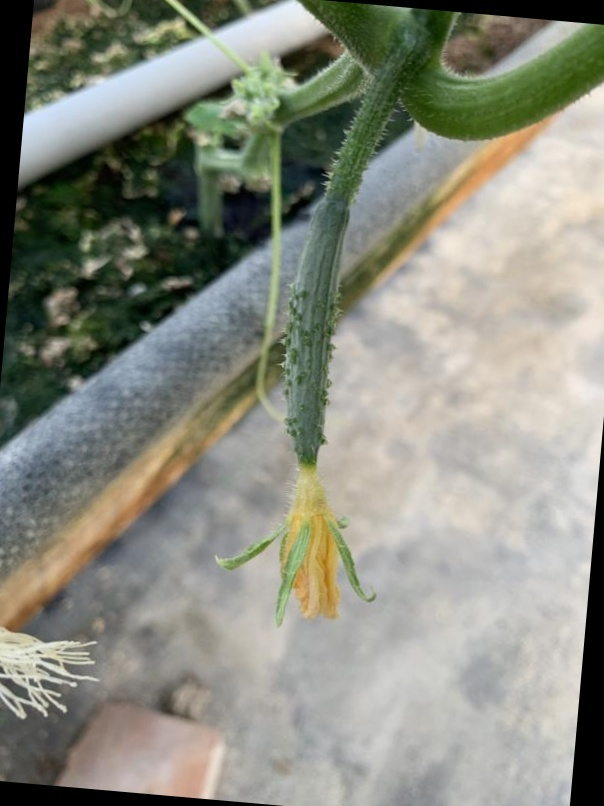bear: (220, 179, 403, 636)
